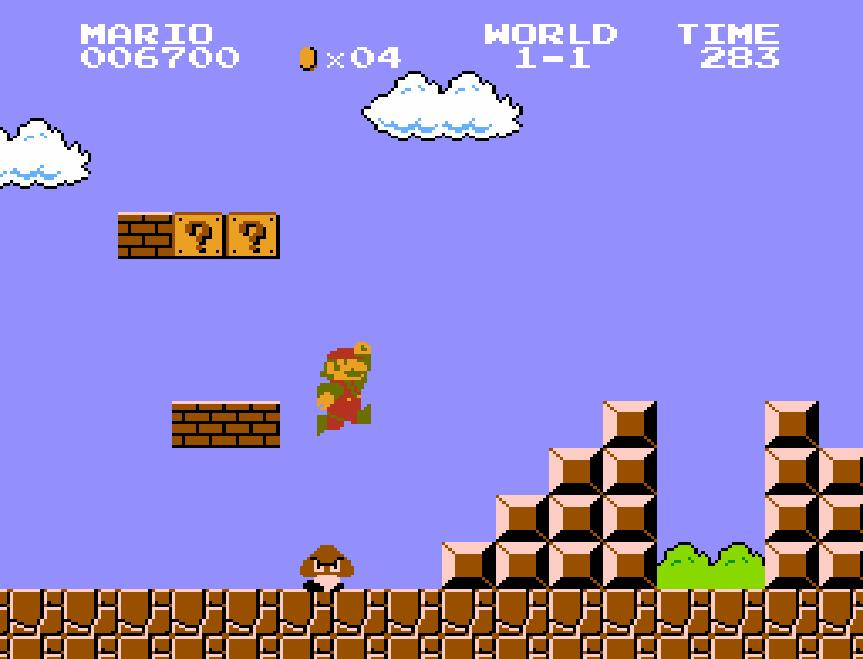big_mario: (314, 340, 372, 438)
